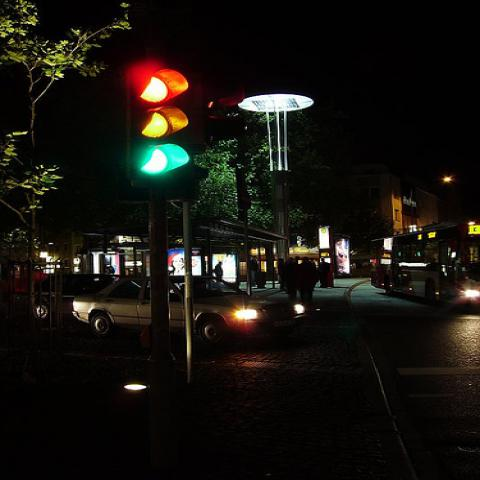bus: (368, 220, 479, 308)
car: (71, 274, 306, 346)
